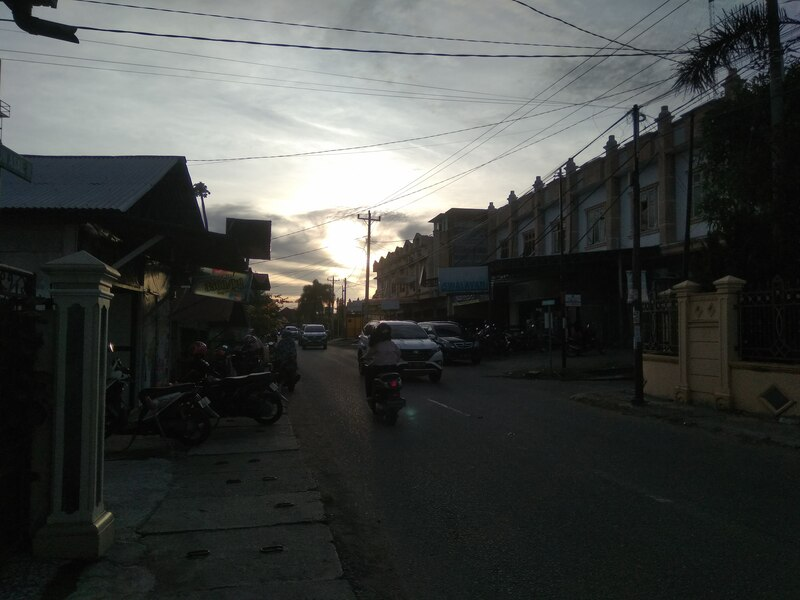car: (355, 319, 449, 384), (418, 320, 481, 370), (300, 320, 331, 354)
motorcycle: (356, 357, 414, 429)
